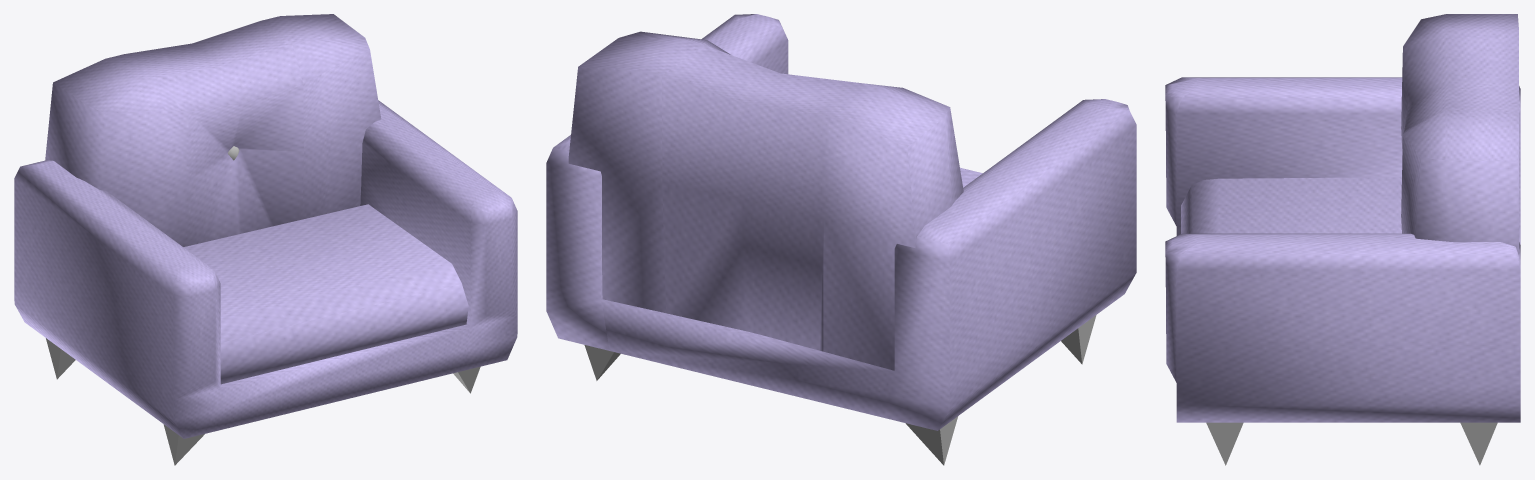
The model's file is Chair_A_3.FBX.
3 views of the same model, side by side, from view 1: azimuth 30°, elevation 25°; view 2: azimuth 150°, elevation 25°; view 3: azimuth 270°, elevation 25° (orthographic). The views are drawn at different scales.
Visible parts, largest first — view 1: Chair; view 2: Chair; view 3: Chair.
Boxes of the visible parts, x1,y1,x2,y2 form: Chair: [14, 14, 517, 465]; Chair: [546, 14, 1136, 465]; Chair: [1165, 14, 1520, 465].
Size of the model in its own units: 204 by 167 by 169.
